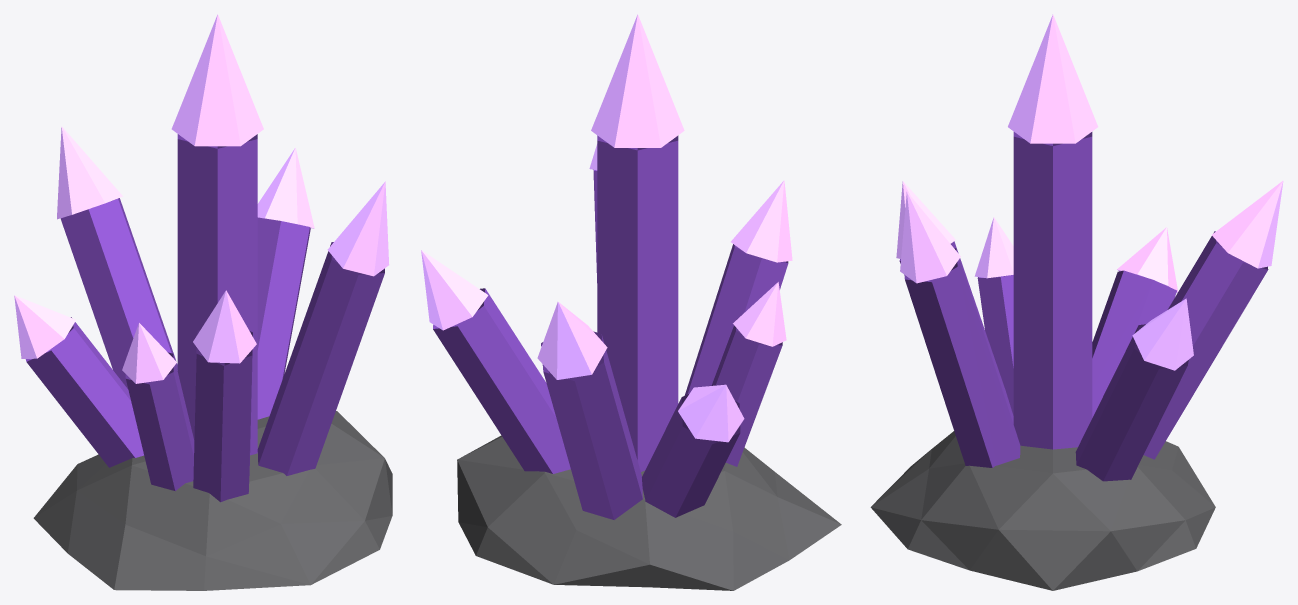
The model's file is crystals_b.glb.
3 views of the same model, side by side, from view 1: azimuth 30°, elevation 25°; view 2: azimuth 150°, elevation 25°; view 3: azimuth 270°, elevation 25° (orthographic). The views are drawn at different scales.
Visible parts, largest first — view 1: crystals_b; view 2: crystals_b; view 3: crystals_b.
Boxes of the visible parts, box(x1,y1,x2,y2) form: crystals_b: box(14, 14, 392, 590); crystals_b: box(421, 14, 841, 590); crystals_b: box(870, 14, 1283, 590).
Size of the model in its own units: 0.8178 by 1.2 by 0.9107.
